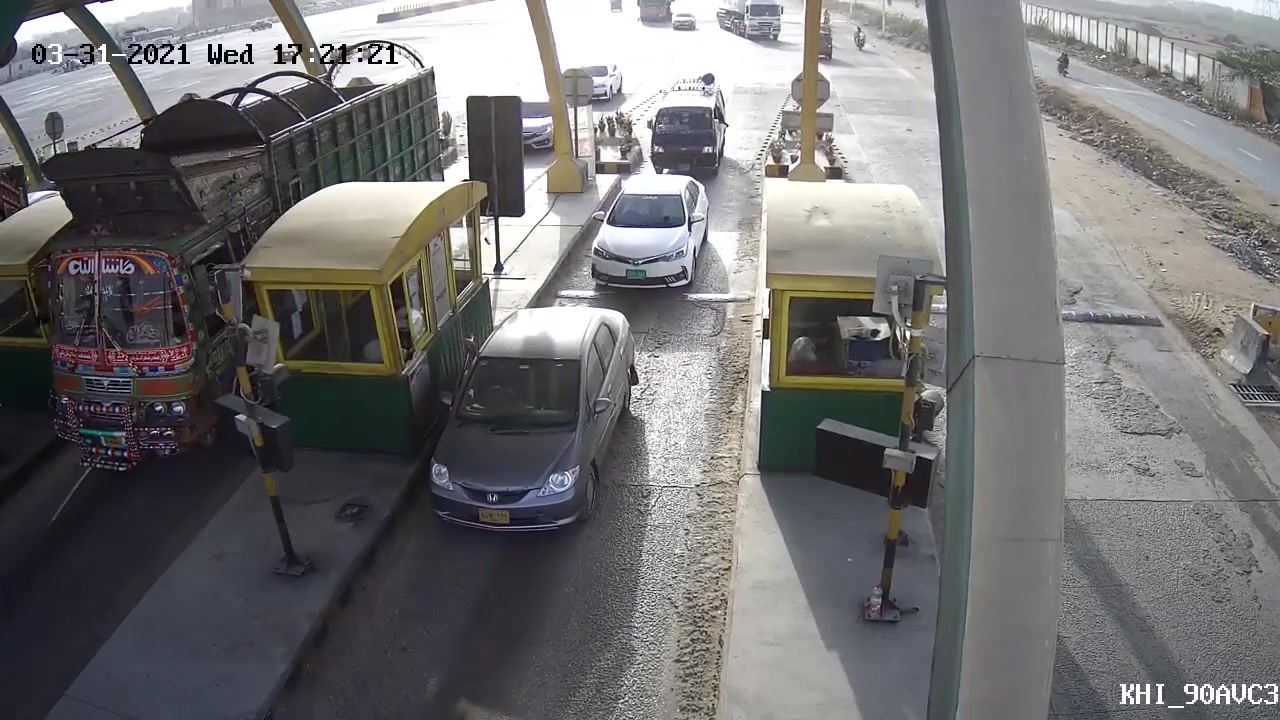F1: (403, 303, 635, 542), (568, 169, 716, 295)
